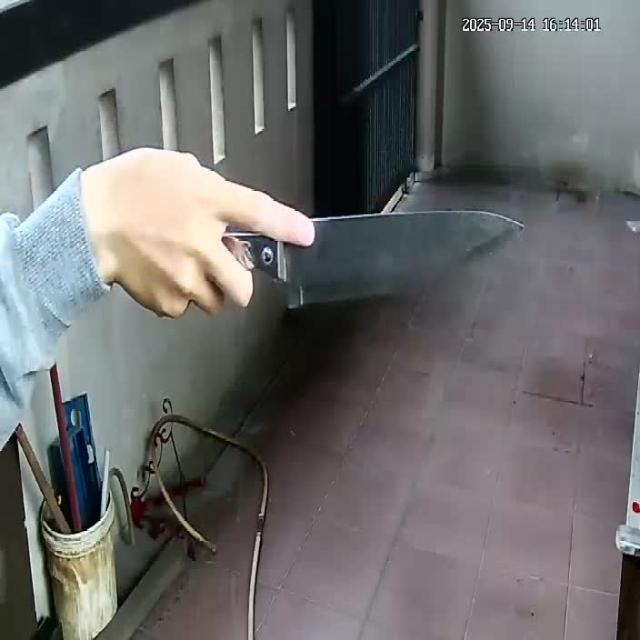senjata_tajam: (254, 207, 526, 312)
